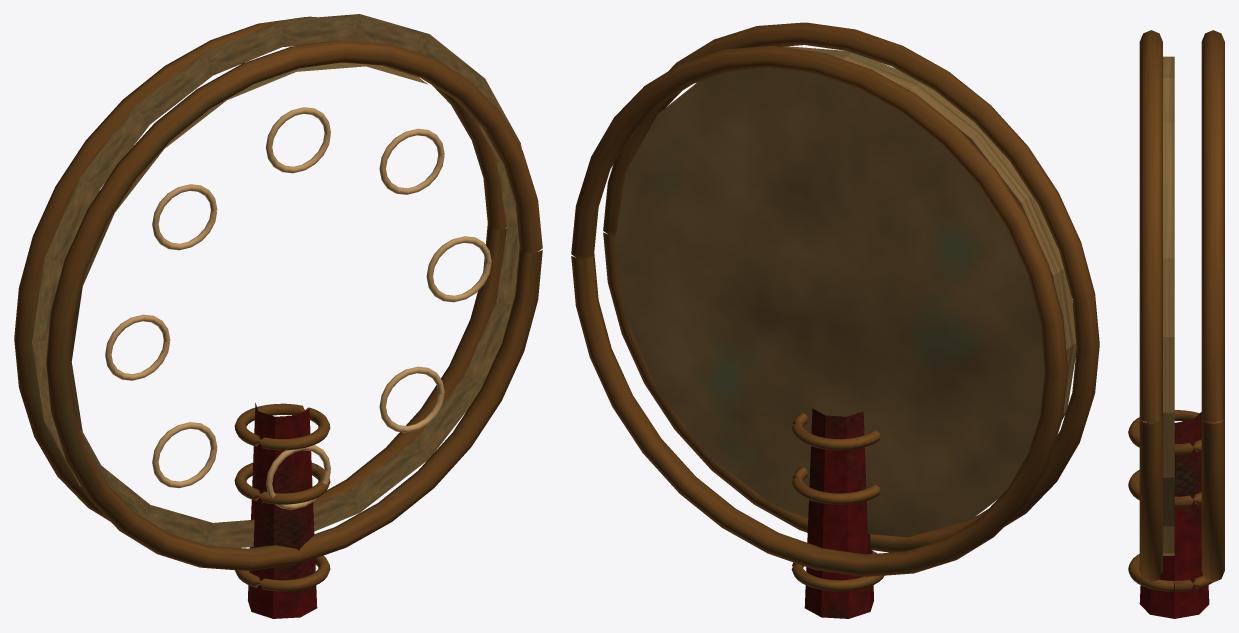
File: bronze_mirror.glb
The picture shows the model from 3 angles, left to right: view 1: azimuth 30°, elevation 25°; view 2: azimuth 150°, elevation 25°; view 3: azimuth 270°, elevation 25°; orthographic projection. The views are drawn at different scales.
Visible parts, largest first — view 1: Art_OxidizedBrass, Rim, Art_OldGoldThread, Handle, Disc; view 2: Disc, Art_OxidizedBrass, Handle; view 3: Art_OxidizedBrass, Handle, Disc.
Part boxes in pixels (left/top/right/bottom): Art_OxidizedBrass: left=14, top=16, right=542, bottom=591; Rim: left=32, top=14, right=521, bottom=547; Art_OldGoldThread: left=105, top=107, right=491, bottom=509; Handle: left=248, top=403, right=317, bottom=618; Disc: left=69, top=62, right=427, bottom=526; Disc: left=615, top=46, right=1076, bottom=537; Art_OxidizedBrass: left=571, top=22, right=1099, bottom=591; Handle: left=804, top=408, right=873, bottom=618; Art_OxidizedBrass: left=1128, top=30, right=1224, bottom=591; Handle: left=1139, top=412, right=1209, bottom=618; Disc: left=1147, top=56, right=1174, bottom=555.
Size of the model in its own units: 0.29 by 0.323 by 0.05.
5 materials, 4 textured.
